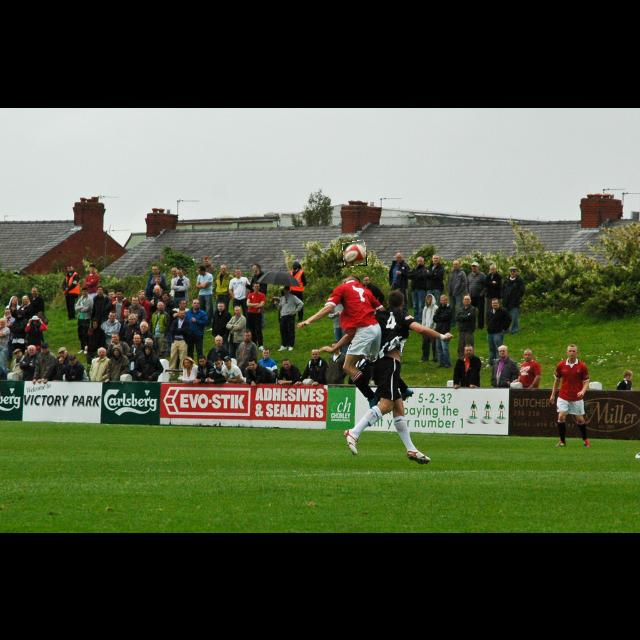Football: (343, 242, 367, 266)
